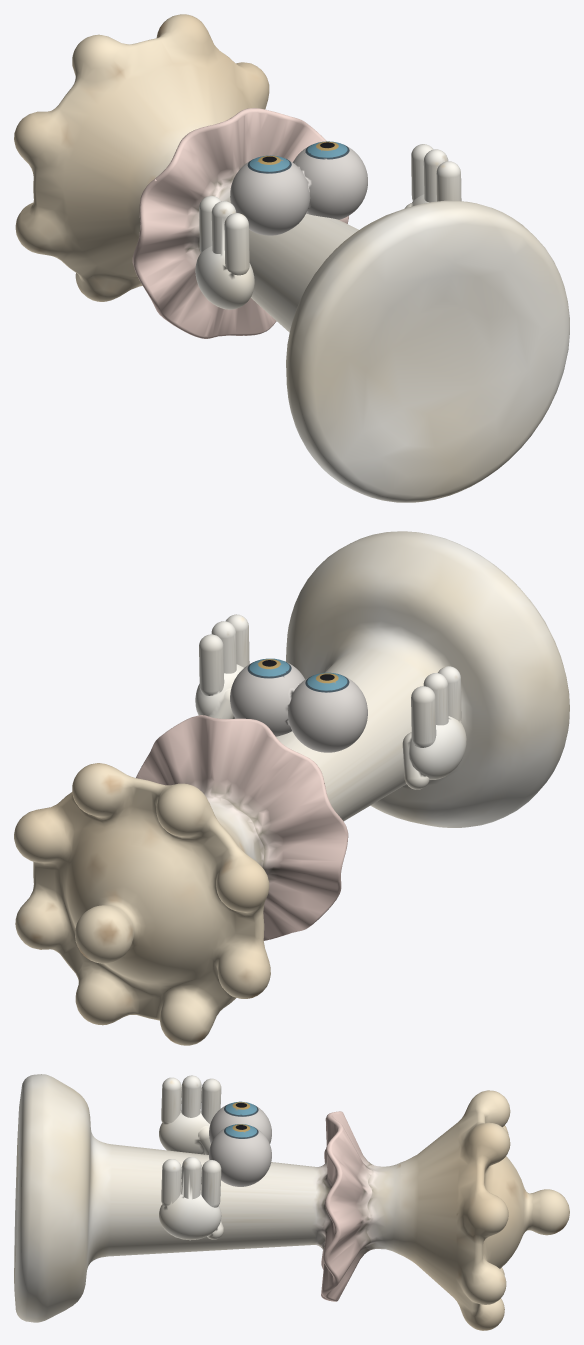
Rendered from queen-light-fallen.glb.
3 renders of one model, top to bottom at view 1: azimuth 30°, elevation 25°; view 2: azimuth 150°, elevation 25°; view 3: azimuth 270°, elevation 25°, orthographic. The views are drawn at different scales.
Parts seen in each view (by area): view 1: body, eye, hand; view 2: body, hand, eye; view 3: body, hand, eye.
Part boxes in pixels (x1,y1,x2,y2): body: (14, 14, 569, 502); eye: (230, 141, 367, 235); hand: (195, 144, 461, 309); body: (14, 531, 569, 1045); hand: (195, 614, 466, 789); eye: (230, 658, 367, 752); body: (14, 1074, 569, 1330); hand: (159, 1075, 223, 1240); eye: (209, 1101, 271, 1186).
Bounding box in the file's own units: 2.27 × 2.29 × 5.08.
